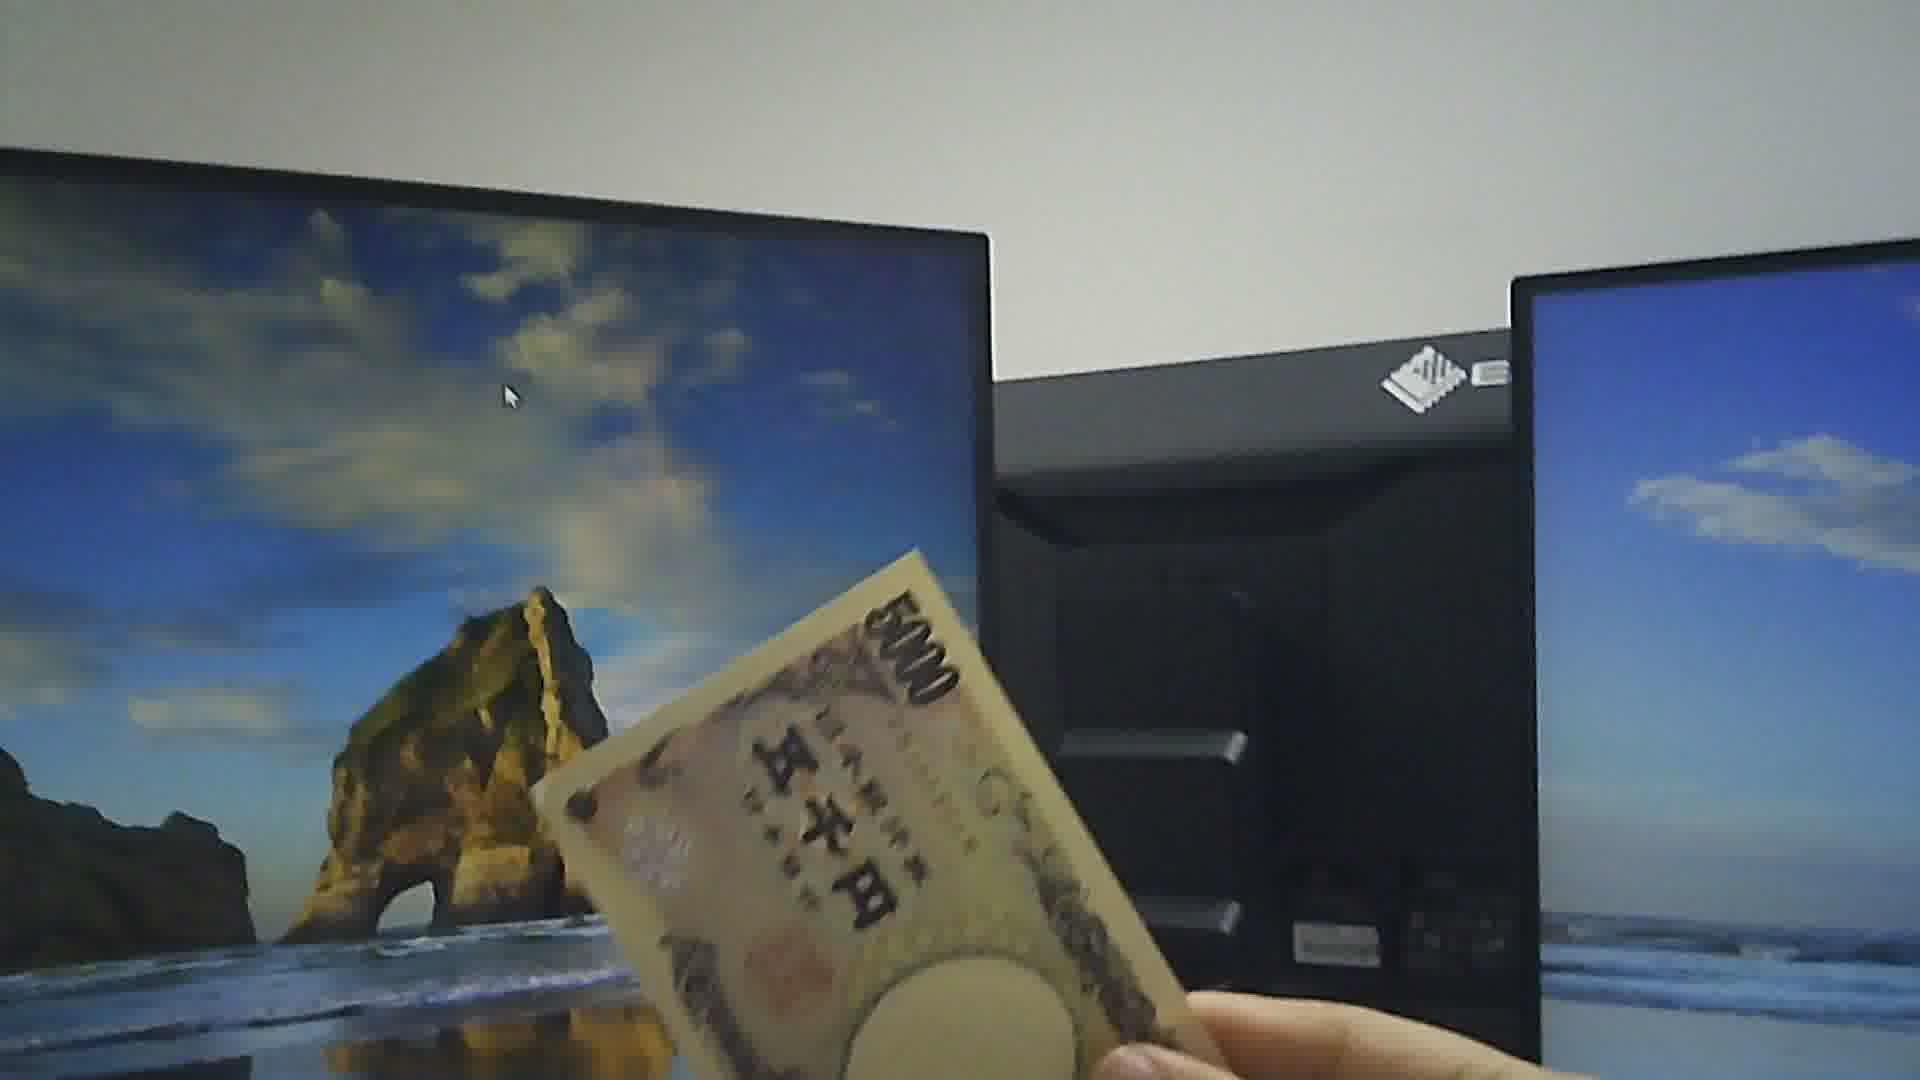5,000 Yen: (513, 537, 1228, 1079)
